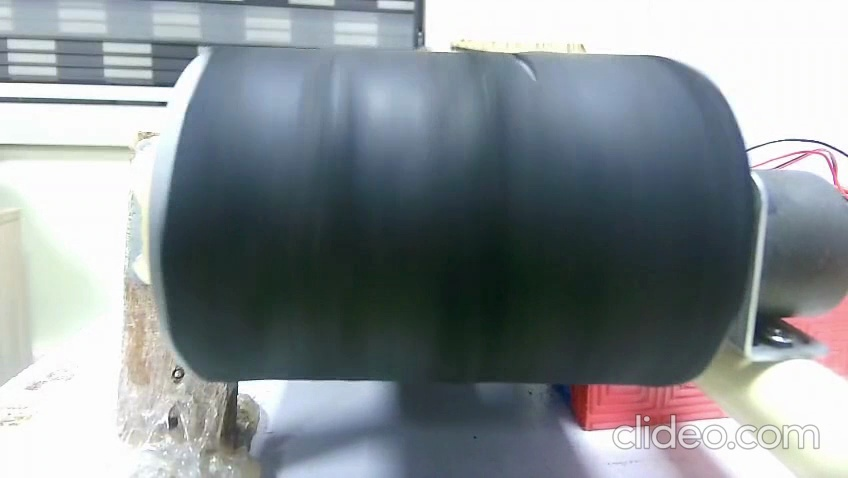tear: (504, 49, 543, 88)
